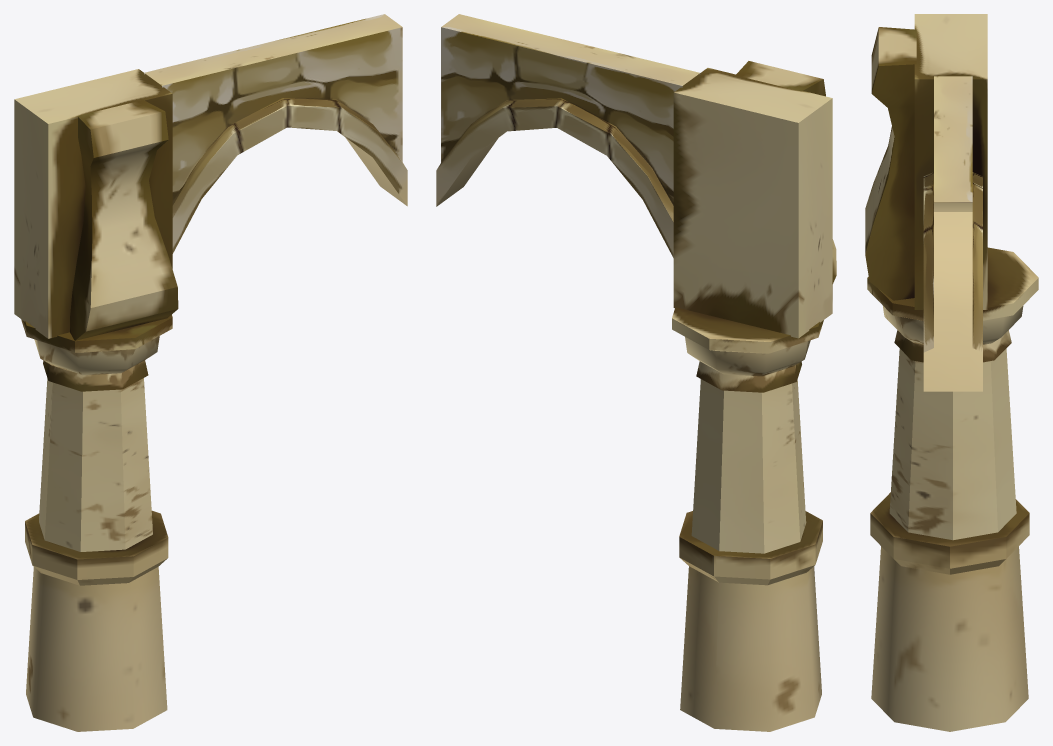
The model's file is Rome_Village_Props_24.FBX.
3 views of the same model, side by side, from view 1: azimuth 30°, elevation 25°; view 2: azimuth 150°, elevation 25°; view 3: azimuth 270°, elevation 25° (orthographic). The views are drawn at different scales.
Visible parts, largest first — view 1: Rome_Village_Props_24; view 2: Rome_Village_Props_24; view 3: Rome_Village_Props_24.
Boxes of the visible parts, bbox=[...] form: Rome_Village_Props_24: bbox=[14, 14, 407, 731]; Rome_Village_Props_24: bbox=[436, 14, 836, 731]; Rome_Village_Props_24: bbox=[865, 14, 1038, 731].
Size of the model in its own units: 335 by 529 by 128.
